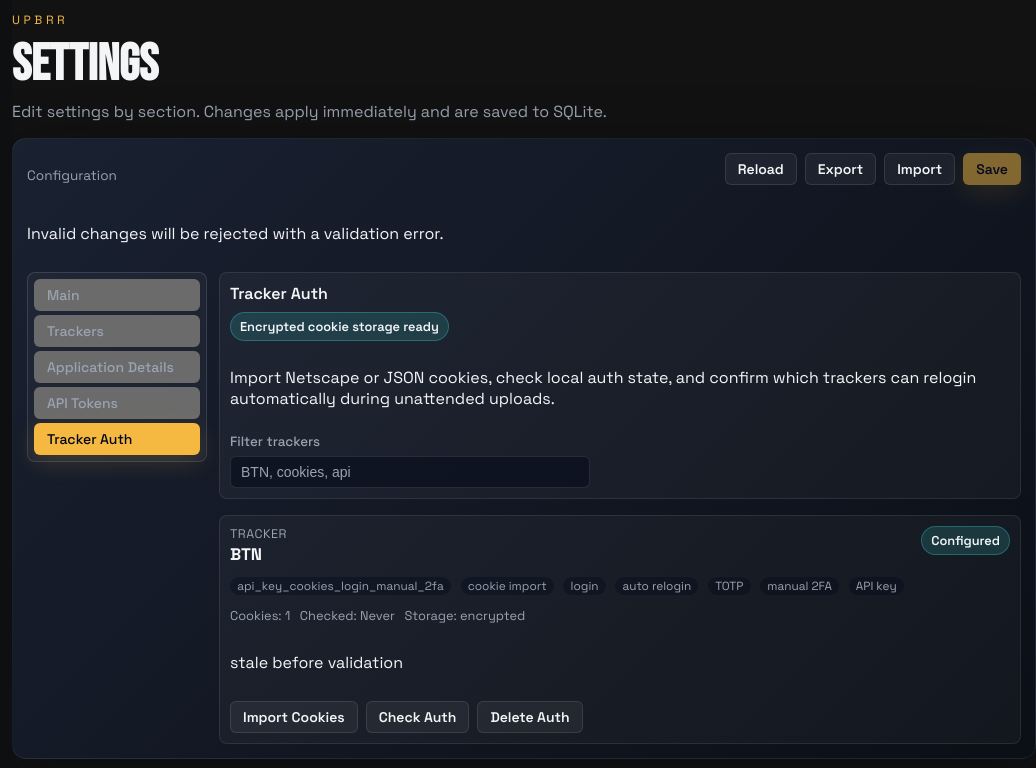
Test case: SettingsPage › stores the post-validation tracker auth status returned by Check Auth
Expected: the text "stale before validation" is shown, 230,652 -> 403,673
Click the button "Check Auth" at [418, 717], box 366,701 -> 469,733
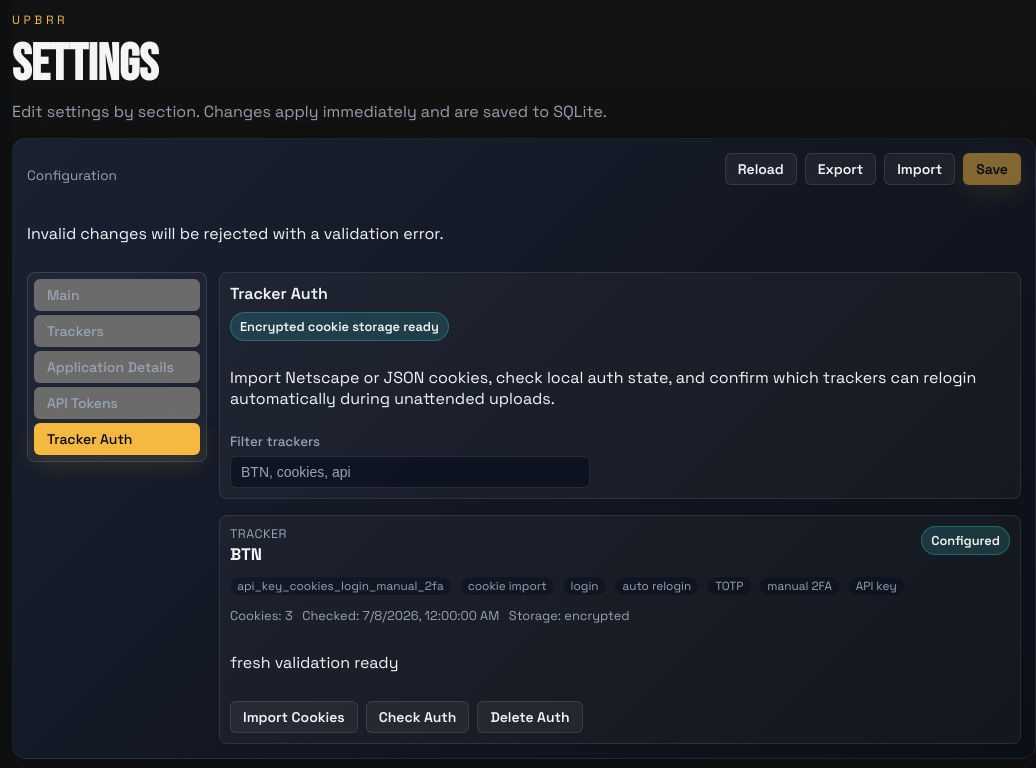
Expected: the text "fresh validation ready" is shown, 230,652 -> 398,673
Expected: the text "Cookies: 3" is shown, 230,607 -> 293,624
Expected: the text "stale before validation" is gone
